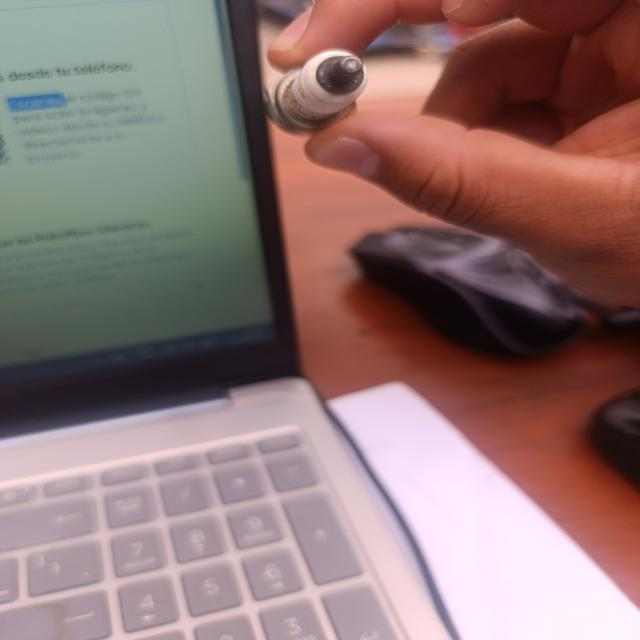Mause: (351, 227, 582, 356), (263, 49, 368, 134)
